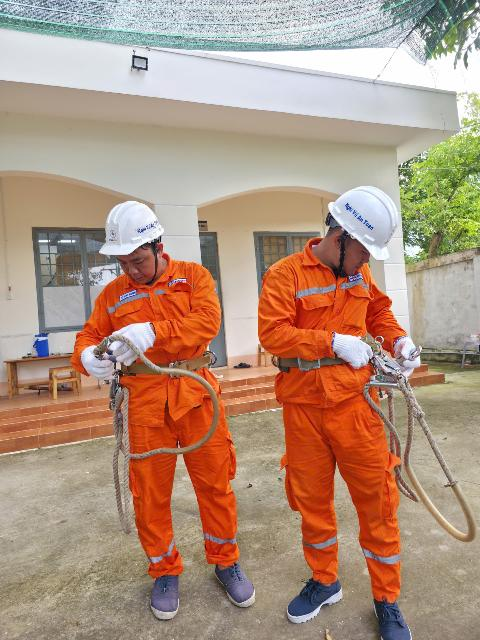gloves: (322, 328, 368, 373), (389, 332, 429, 383), (107, 327, 160, 361), (78, 339, 115, 379)
harness: (237, 342, 411, 377), (95, 348, 230, 386)
helmet: (319, 182, 422, 270), (85, 195, 172, 258)
shoes: (276, 565, 345, 625), (130, 563, 191, 618), (200, 557, 261, 610), (370, 595, 421, 640)
